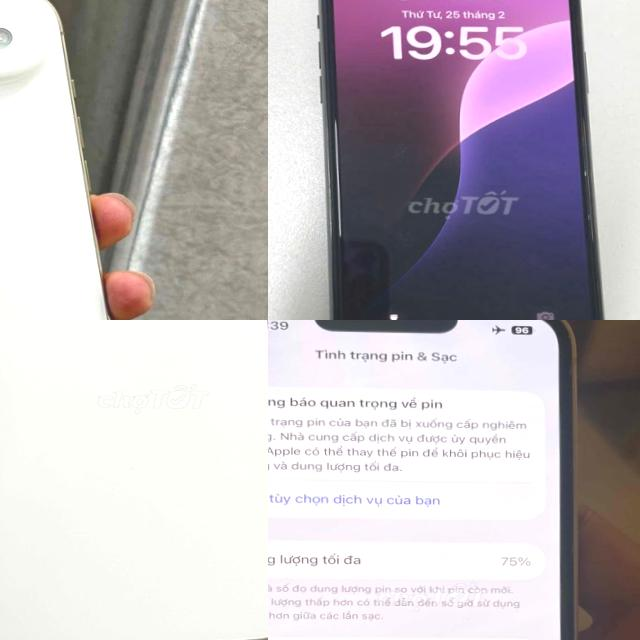gen_11: (305, 0, 615, 320)
gen_12_13: (268, 320, 608, 640)
gen_15: (0, 320, 268, 640)
gen_17: (0, 0, 153, 320)
